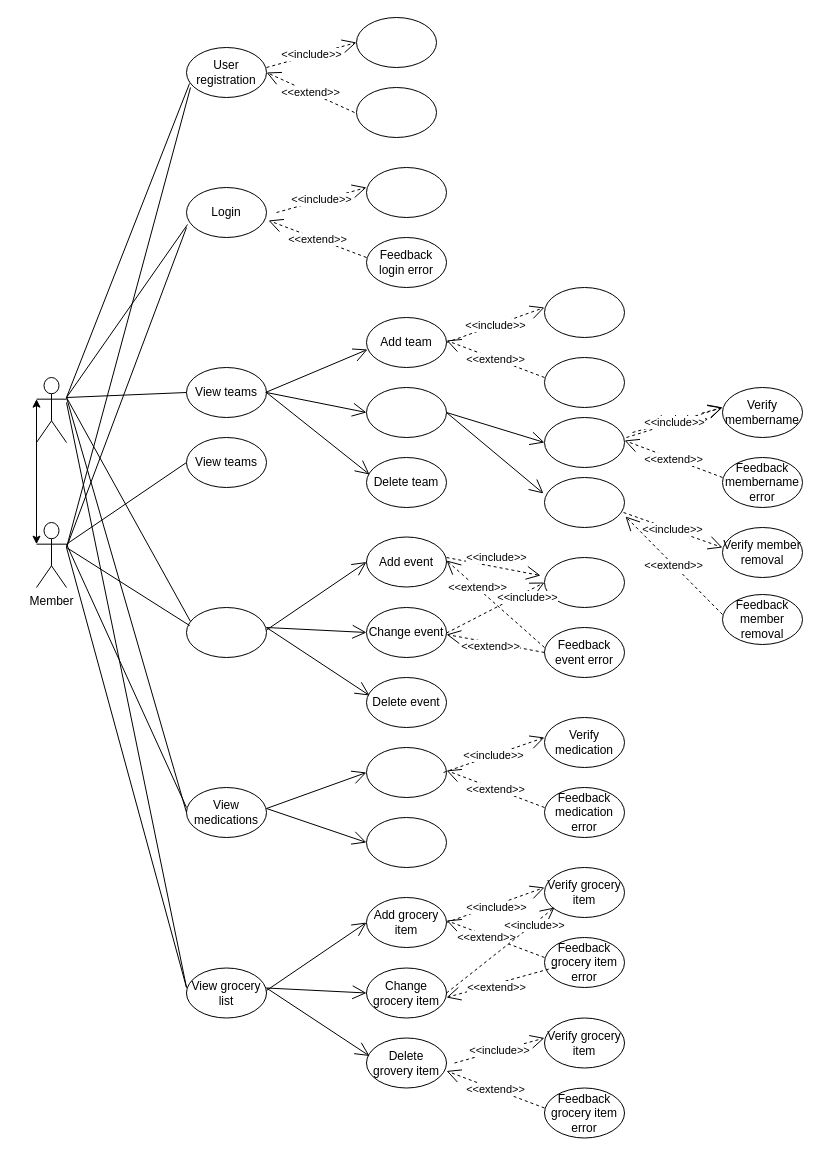
This 820x1156 diagram has some shape labels left out. The centre of each missing label's shape, as x and y in pixels:
"Add medication" goes at point (406, 772).
"Add member" goes at point (584, 442).
"Change team" goes at point (406, 412).
"Delete medication" goes at point (406, 842).
"Feedback registration error" goes at point (396, 112).
"Feedback teamname error" goes at point (584, 382).
"Remove member" goes at point (584, 502).
"Team_admin" goes at point (51, 409).
"Verify event" goes at point (584, 582).
"Verify login" goes at point (406, 192).
"Verify teamname" goes at point (584, 312).
"Verify user registration" goes at point (396, 42).
"View calendar" goes at point (226, 632).
